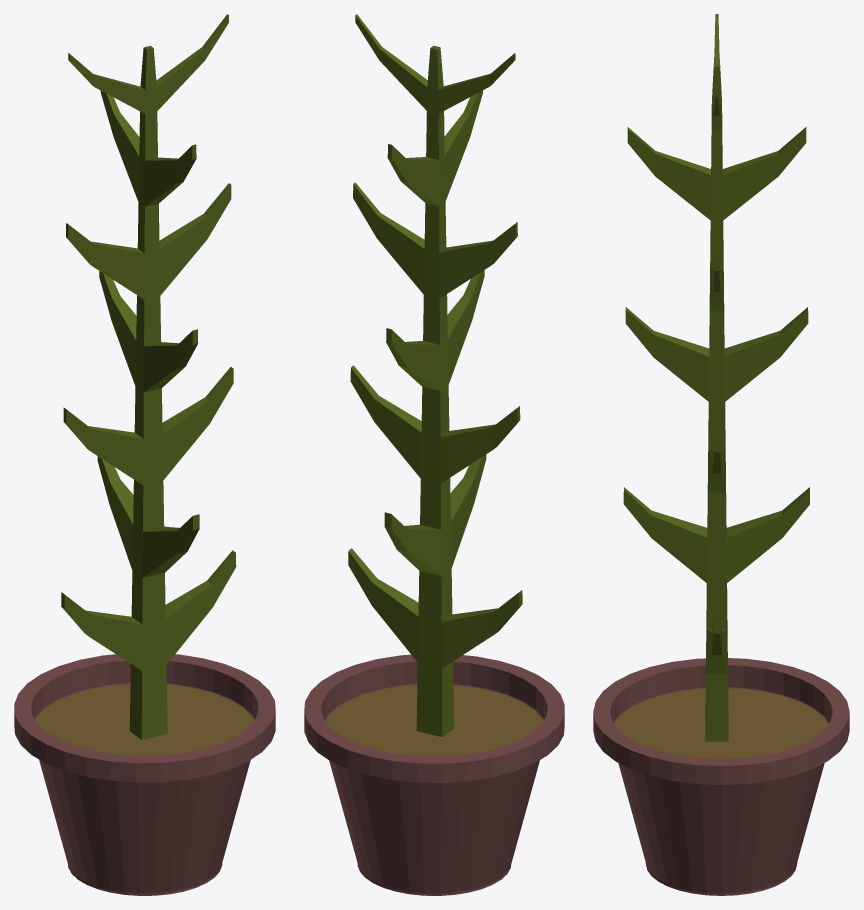
File: plant_3.fbx
3 views of the same model, side by side, from view 1: azimuth 30°, elevation 25°; view 2: azimuth 150°, elevation 25°; view 3: azimuth 270°, elevation 25° (orthographic). The views are drawn at different scales.
Visible parts, largest first — view 1: Cylinder.008; view 2: Cylinder.008; view 3: Cylinder.008.
Part boxes in pixels (left/top/right/bottom): Cylinder.008: left=14, top=14, right=275, bottom=895; Cylinder.008: left=304, top=14, right=564, bottom=895; Cylinder.008: left=593, top=14, right=849, bottom=895.
Bounding box in the file's own units: 182 × 637 × 182.
